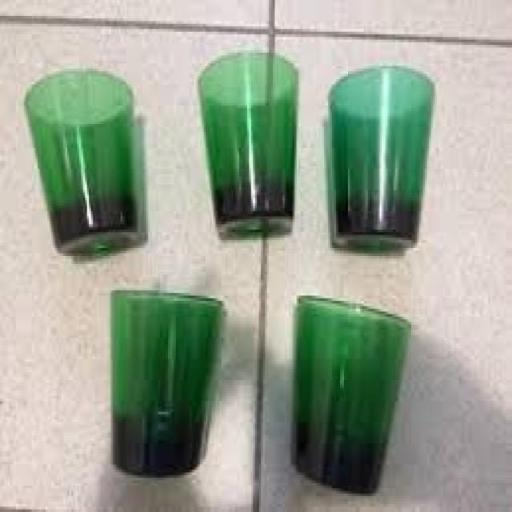glass: (22, 68, 146, 259), (292, 296, 411, 494), (110, 290, 222, 478), (326, 65, 434, 251), (198, 52, 300, 241)
